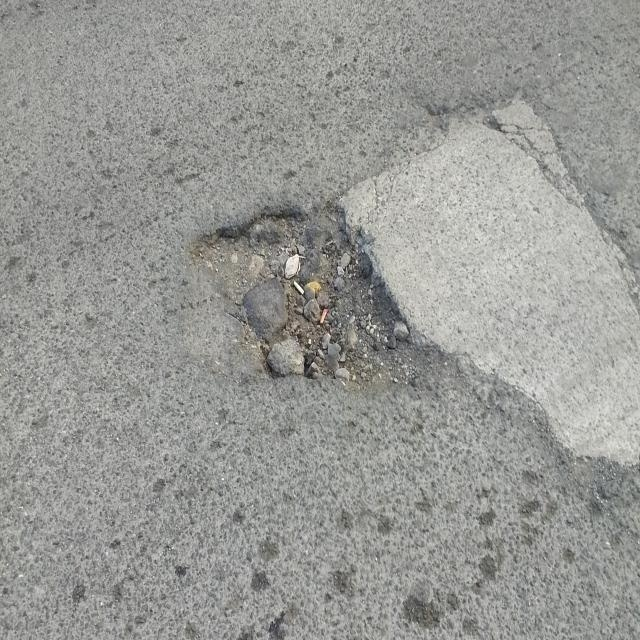pothole: (202, 201, 398, 422)
